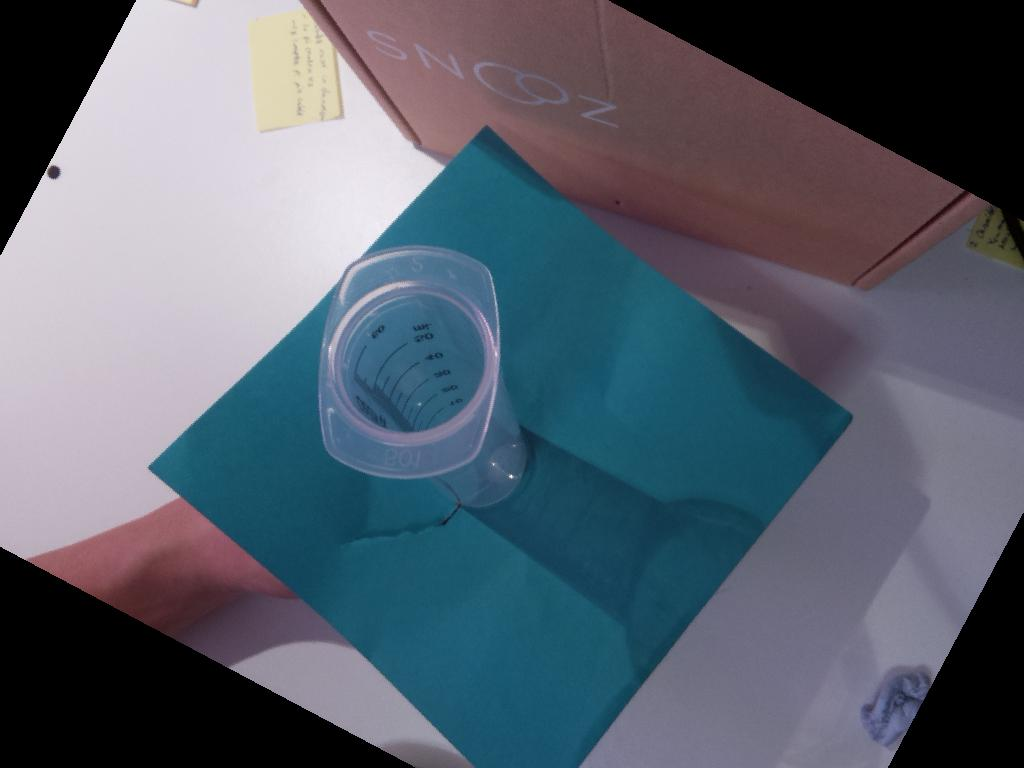clean: (318, 243, 504, 480)
